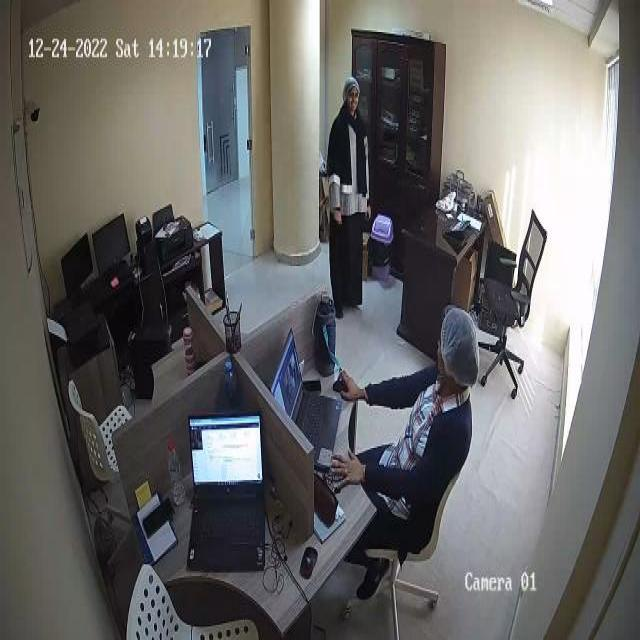hairnet: (444, 305, 476, 386), (344, 79, 360, 102)
